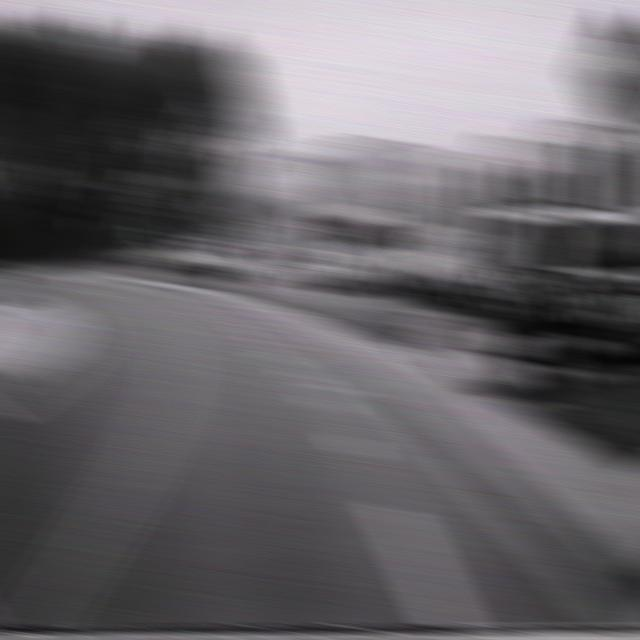pedestrianCrossing: (368, 185, 417, 244)
